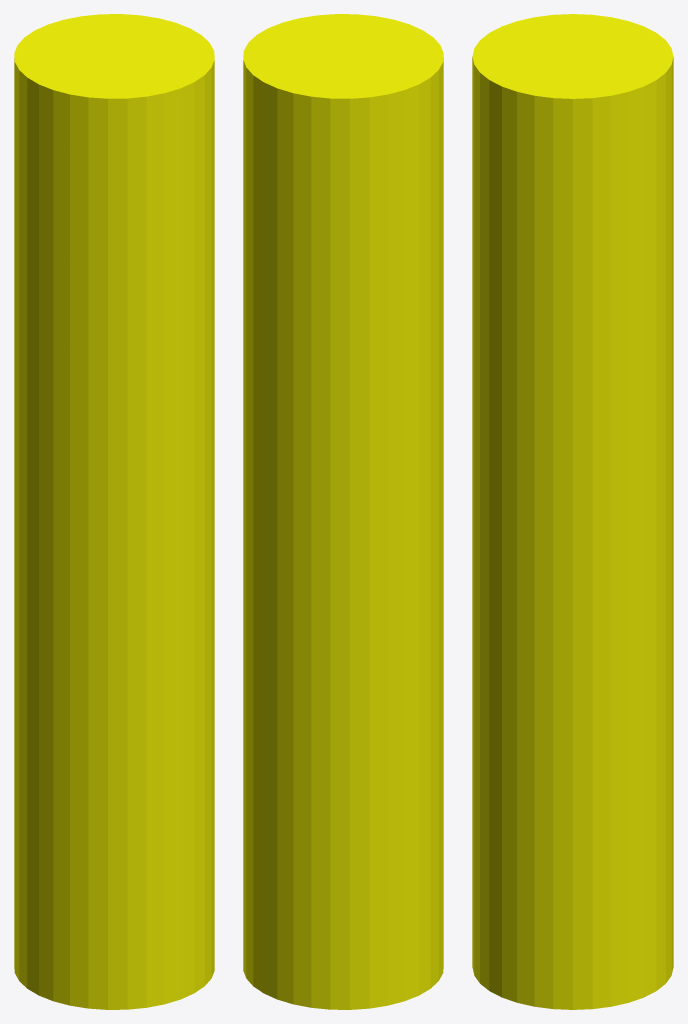
File: sauvc_yellow_flare.fbx
3 views of the same model, side by side, from view 1: azimuth 30°, elevation 25°; view 2: azimuth 150°, elevation 25°; view 3: azimuth 270°, elevation 25° (orthographic).
Visible parts, largest first — view 1: Cylinder; view 2: Cylinder; view 3: Cylinder.
Part boxes in pixels (x1=…): Cylinder: x1=14, y1=14, x2=214, y2=1009; Cylinder: x1=243, y1=14, x2=443, y2=1009; Cylinder: x1=472, y1=14, x2=673, y2=1009.
Size of the model in its own units: 30 by 150 by 30.
